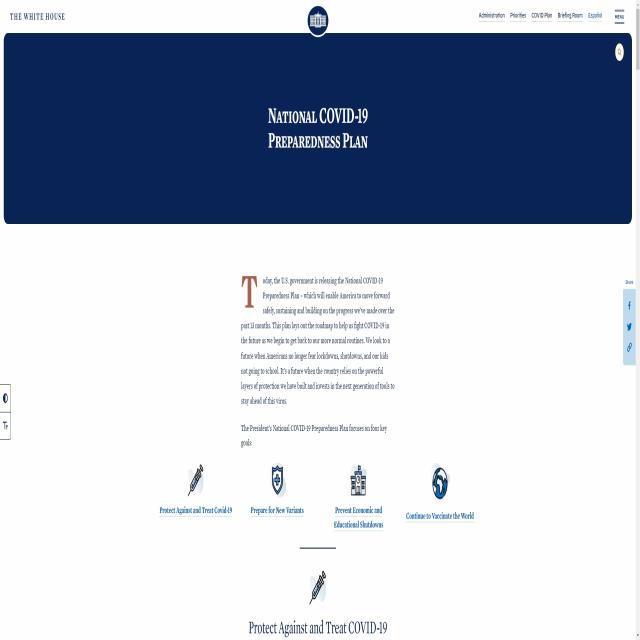menu-bar: (476, 1, 626, 27)
side-panel: (618, 272, 638, 369)
